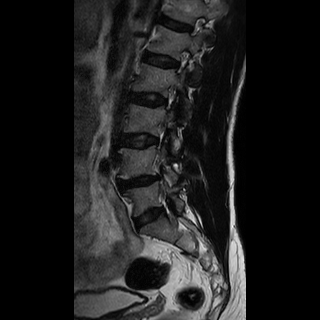RFS0: (159, 80, 183, 115), (169, 46, 195, 77)
